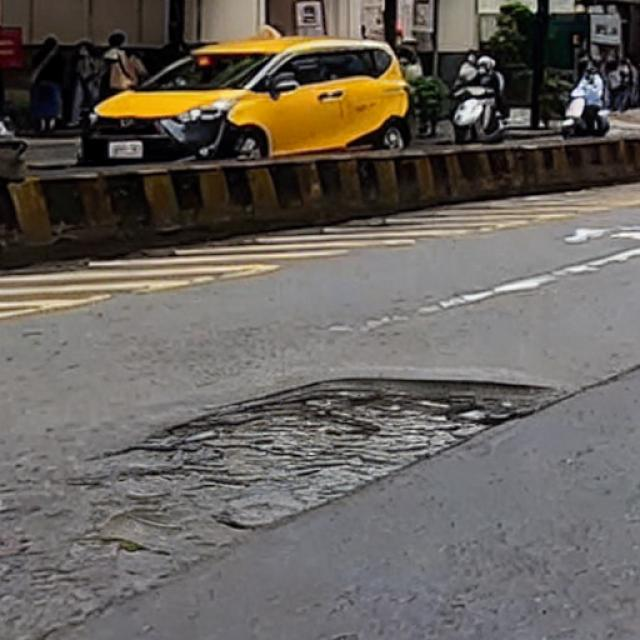puddle: (159, 378, 564, 525)
